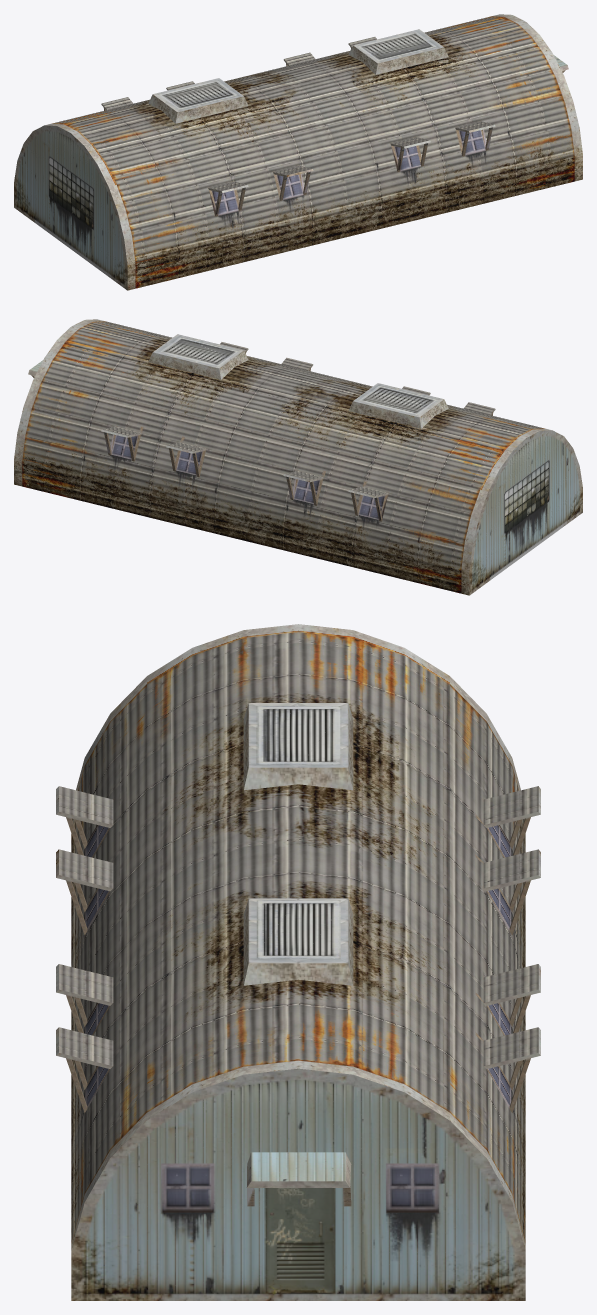
The model's file is Barracks.fbx.
The picture shows the model from 3 angles, top to bottom: view 1: azimuth 30°, elevation 25°; view 2: azimuth 150°, elevation 25°; view 3: azimuth 270°, elevation 25°; orthographic projection. The views are drawn at different scales.
Visible parts, largest first — view 1: Cylinder001; view 2: Cylinder001; view 3: Cylinder001.
Part boxes in pixels (x1,y1,x2,y2): Cylinder001: (14, 14, 582, 290); Cylinder001: (14, 319, 582, 595); Cylinder001: (56, 624, 540, 1300).
Size of the model in its own units: 1929 by 835 by 466.
1 material, 1 textured.
